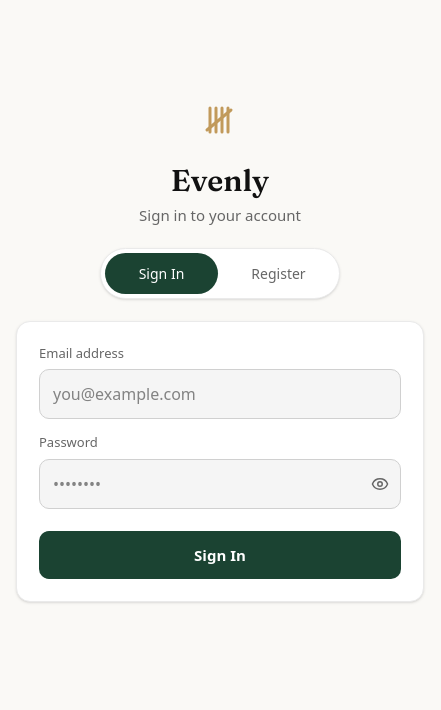
Test: AuthPage › toggles to register mode
Click the button "Register" at (278, 273), box top-left (222, 253), bottom-right (335, 294)
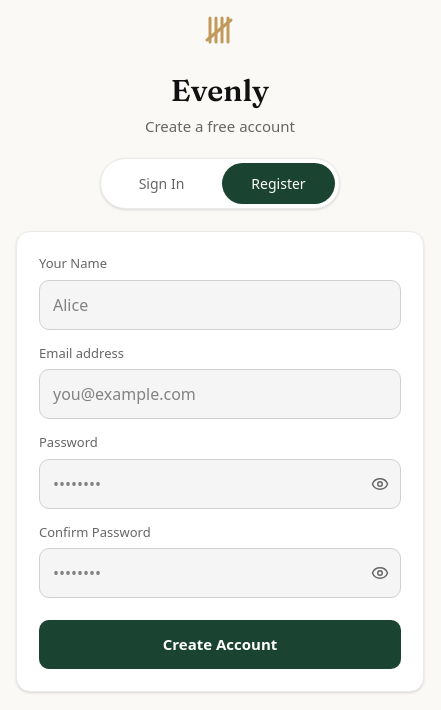
expect the password field with placeholder "••••••••" is shown: met, box top-left (39, 459), bottom-right (401, 509)
expect the text "Create a free account" is shown: met, box top-left (145, 116), bottom-right (295, 136)
expect the field with placeholder "Alice" is shown: met, box top-left (39, 280), bottom-right (401, 330)
